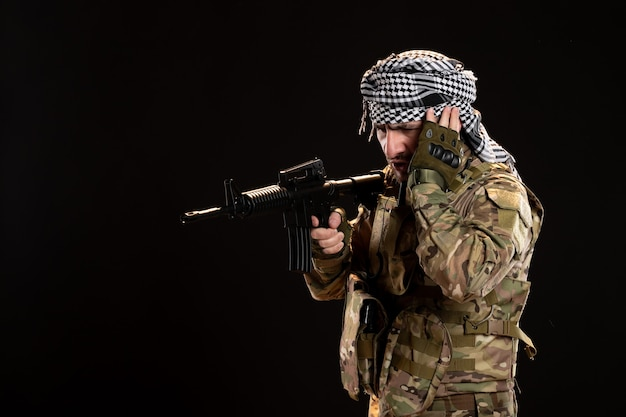gun: (184, 156, 391, 274)
